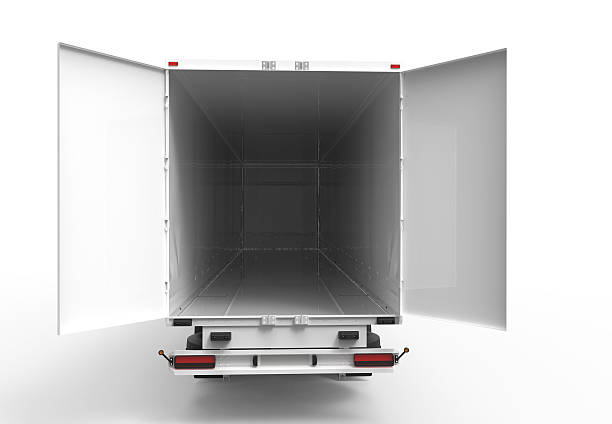Semi: (57, 41, 506, 381)
